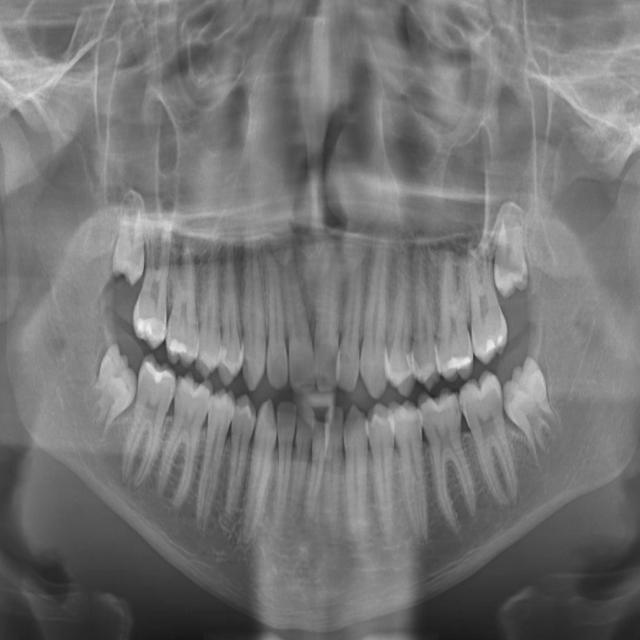3M ESPE Implant: (109, 193, 151, 287)
AGS Medikal Implant: (509, 495, 513, 502)
AMerOss Implant: (414, 384, 481, 535)
Amalgam filling: (128, 211, 180, 351)
Anthogyr Implant: (421, 530, 421, 532)
Bicon Implant: (364, 401, 409, 547)
BioHorizons Implant: (344, 403, 368, 551)
BioLife Implant: (324, 404, 344, 532)
Biomet 3i Implant: (304, 407, 330, 522)
Blue Sky Bio Implant: (285, 402, 315, 522)
Camlog Implant: (272, 398, 295, 524)
Caries: (336, 242, 365, 395)
Composite filling: (237, 396, 282, 549)
Cowellmedi Implant: (210, 391, 260, 535)
Crown: (202, 517, 202, 518)
DENTSPLY Implant: (165, 238, 201, 369)
Dentatus Implant: (152, 369, 214, 515)
Dentis Implant: (115, 352, 180, 495)
Dentium Implant: (69, 341, 152, 444)
Euroteknika Implant: (195, 239, 225, 376)
Filling: (219, 245, 244, 386)
Frontier Implant: (242, 217, 267, 393)
Hiossen Implant: (360, 228, 388, 400)
Implant: (281, 245, 316, 396)
Implant Direct: (262, 248, 288, 390)
Keystone Dental Implant: (313, 231, 341, 394)
MIS Implant: (385, 239, 416, 399)
Mandible: (401, 236, 442, 392)
Maxilla: (431, 251, 474, 385)
Megagen Implant: (463, 231, 511, 365)
Neodent Implant: (490, 209, 530, 299)
Neoss Implant: (489, 353, 578, 476)
